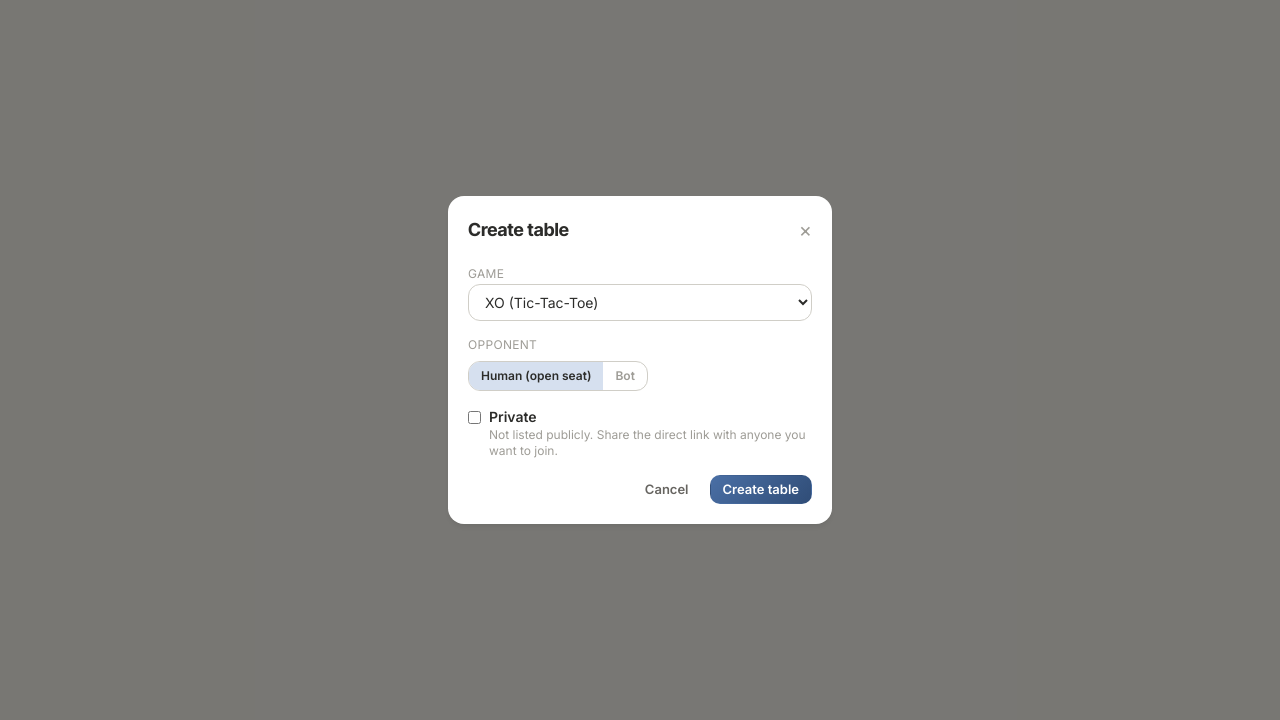
Test: CreateTableModal — Phase C.1 bot picker › switching to Bot reveals the picker (filter bar + grid)
Step 1. Click the button with test id "create-table-opponent-bot" → click(625, 376), box top-left (603, 362), bottom-right (647, 390)
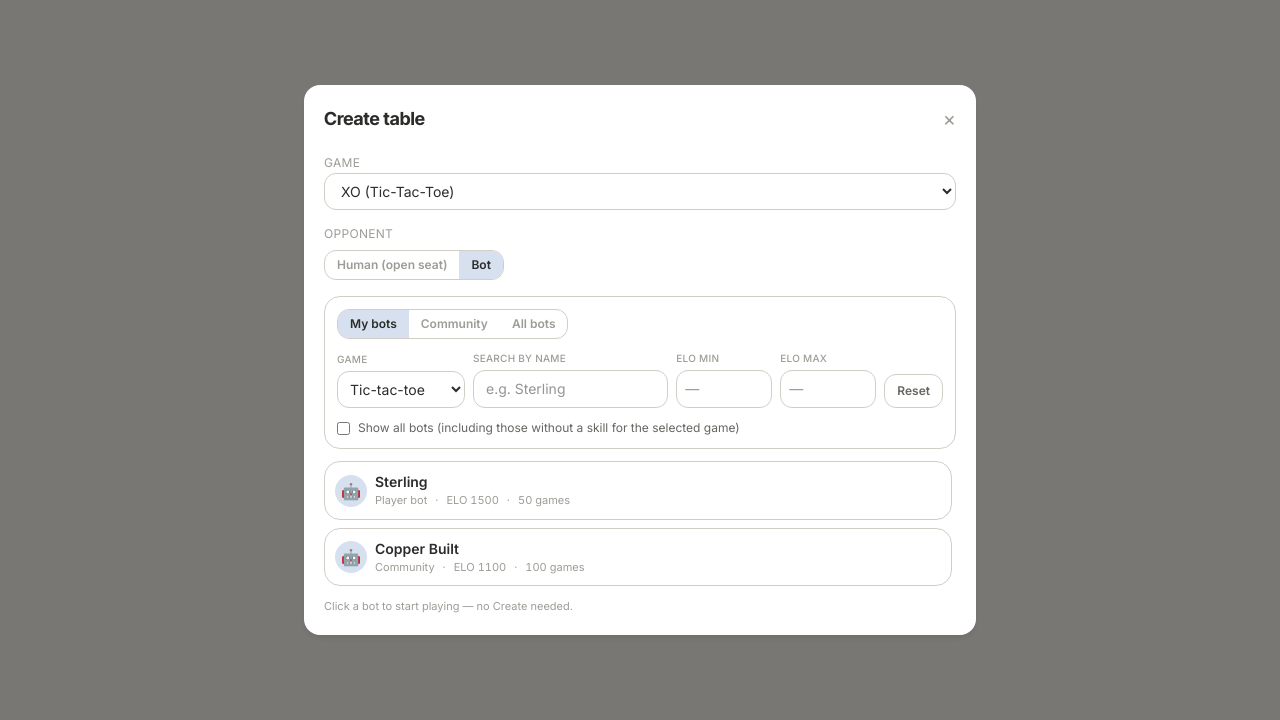
Now the element with test id "create-table-bot-picker" is shown, box top-left (324, 296), bottom-right (956, 615)
Now the element with test id "bot-filter-bar" is shown, box top-left (324, 296), bottom-right (956, 449)
Now the element with test id "create-table-bot-grid" is shown, box top-left (324, 461), bottom-right (956, 586)
